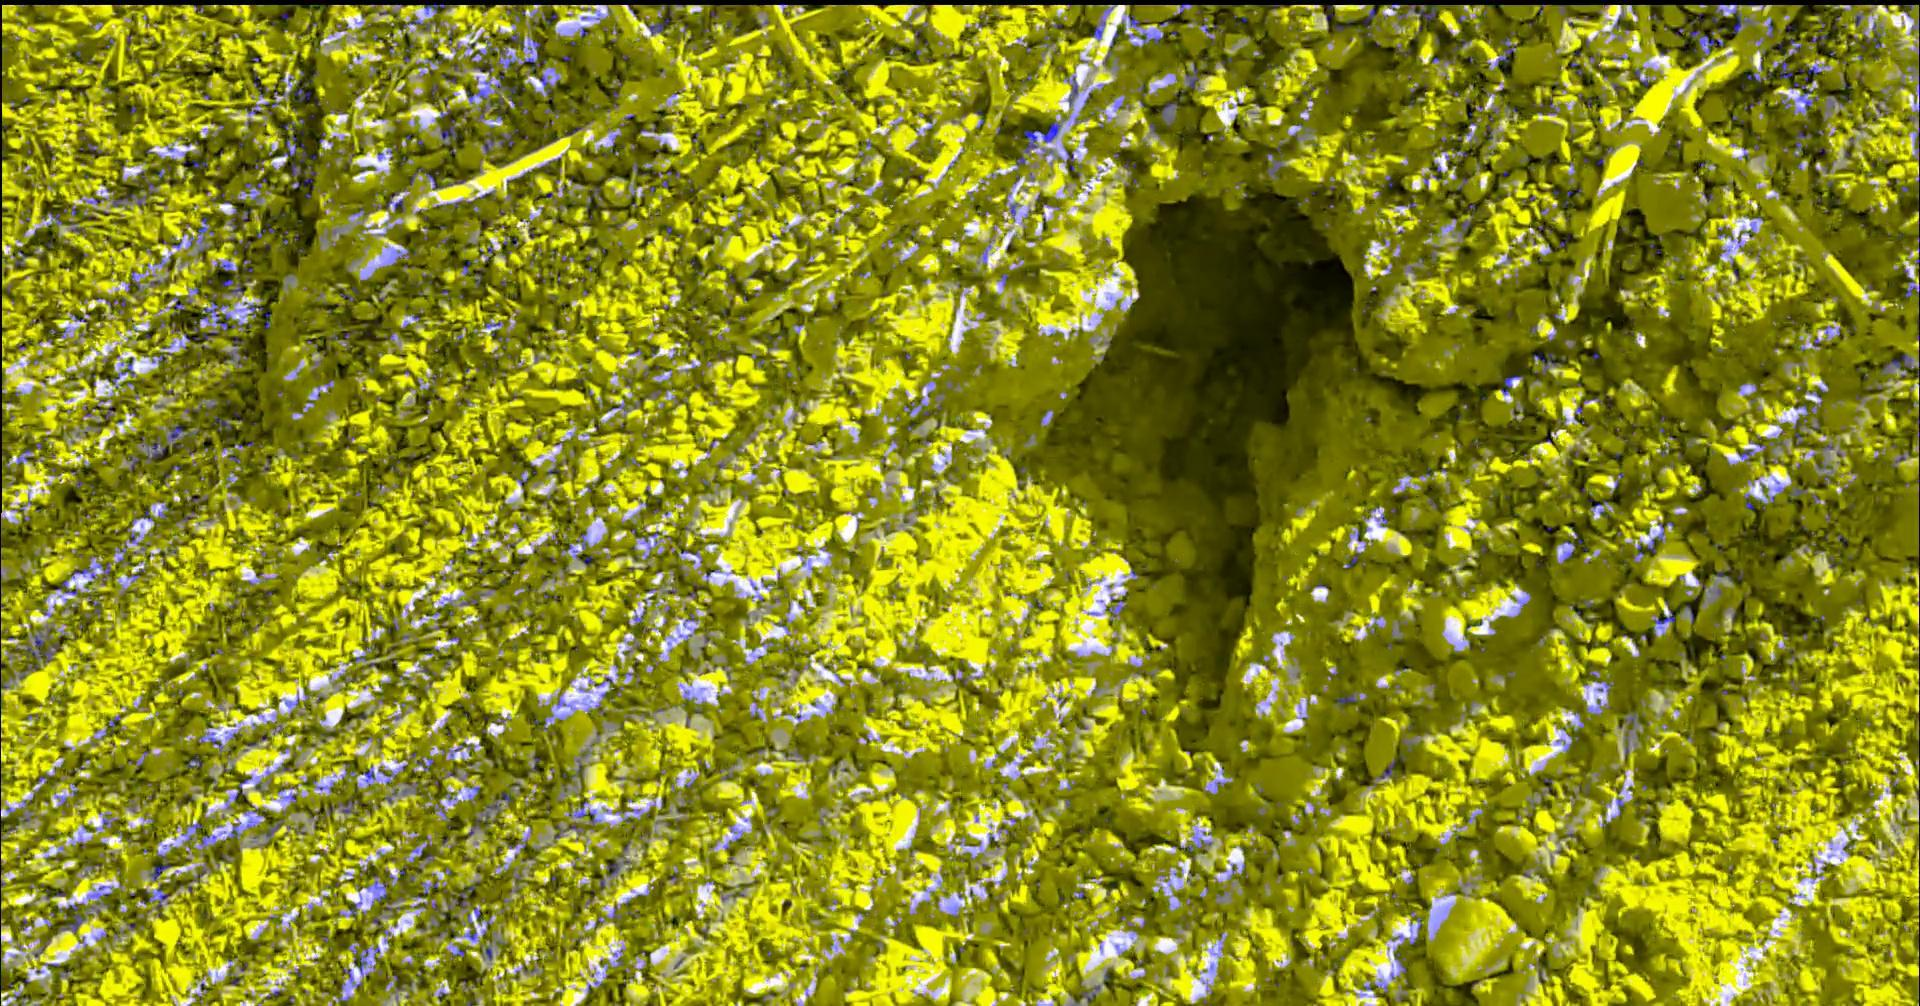ant: (203, 296, 253, 330), (279, 119, 317, 163), (246, 84, 284, 113), (498, 70, 527, 105), (25, 635, 51, 669), (648, 4, 676, 34), (1690, 29, 1724, 53), (522, 39, 547, 71), (1534, 351, 1567, 375), (60, 903, 86, 932), (292, 163, 317, 189), (1882, 353, 1912, 373), (1410, 4, 1445, 20), (143, 437, 169, 460), (427, 166, 453, 188), (249, 304, 272, 328), (152, 854, 173, 880), (290, 79, 312, 102), (442, 118, 463, 142), (1187, 64, 1208, 88), (171, 423, 190, 448), (1500, 36, 1515, 66), (116, 192, 149, 206), (232, 207, 253, 229), (458, 884, 477, 907), (1043, 119, 1062, 141), (1867, 23, 1882, 48), (1503, 373, 1523, 394), (1796, 130, 1813, 151), (1025, 130, 1041, 152), (1365, 4, 1377, 36), (502, 128, 521, 146), (356, 948, 370, 972), (1068, 76, 1079, 105), (1811, 28, 1830, 44), (1801, 66, 1821, 81), (1717, 565, 1737, 580), (1906, 276, 1920, 297), (215, 414, 232, 431), (1382, 760, 1397, 779), (1337, 694, 1359, 706), (1779, 61, 1796, 77), (344, 795, 361, 812), (257, 224, 276, 238), (425, 3, 451, 13), (1656, 611, 1677, 622), (485, 133, 498, 152), (187, 754, 204, 767), (1733, 10, 1742, 33), (608, 859, 620, 875)
